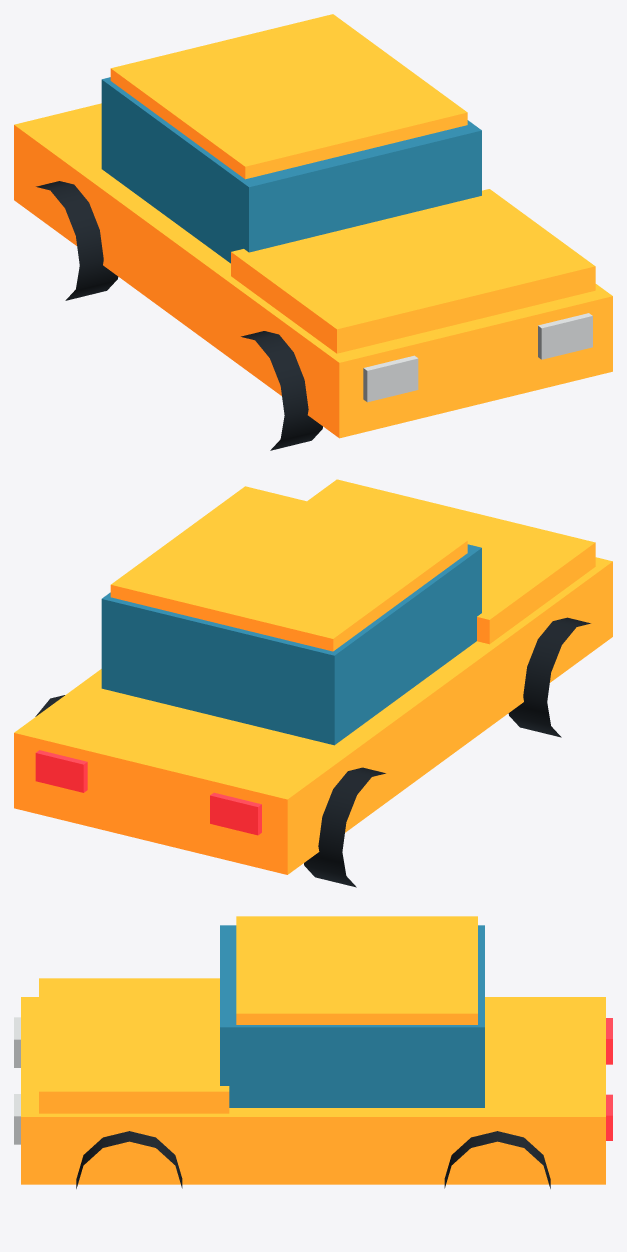
File: parked-car.glb
3 views of the same model, one above another, from view 1: azimuth 30°, elevation 25°; view 2: azimuth 150°, elevation 25°; view 3: azimuth 270°, elevation 25° (orthographic). The views are drawn at different scales.
Parts seen in each view (by area): view 1: parked_car_body, parked_car_hood, parked_car_roof, parked_car_cabin, parked_car_wheel_-1_-1.18, parked_car_wheel_-1_1.18, parked_car_headlight_-0.58, parked_car_headlight_0.58; view 2: parked_car_body, parked_car_cabin, parked_car_roof, parked_car_hood, parked_car_wheel_-1_1.18, parked_car_wheel_-1_-1.18, parked_car_taillight_0.58, parked_car_taillight_-0.58; view 3: parked_car_body, parked_car_roof, parked_car_hood, parked_car_cabin, parked_car_wheel_1_-1.18, parked_car_wheel_1_1.18.
Part boxes in pixels (x1,y1,x2,y2): parked_car_body: [14, 103, 612, 438]; parked_car_hood: [231, 189, 595, 353]; parked_car_roof: [110, 14, 467, 179]; parked_car_cabin: [101, 77, 481, 263]; parked_car_wheel_-1_-1.18: [36, 181, 118, 300]; parked_car_wheel_-1_1.18: [241, 331, 322, 450]; parked_car_headlight_-0.58: [363, 355, 418, 402]; parked_car_headlight_0.58: [538, 313, 592, 359]; parked_car_body: [14, 557, 612, 874]; parked_car_cabin: [101, 544, 481, 745]; parked_car_roof: [110, 486, 467, 651]; parked_car_hood: [307, 479, 595, 644]; parked_car_wheel_-1_1.18: [508, 617, 590, 737]; parked_car_wheel_-1_-1.18: [304, 767, 385, 887]; parked_car_taillight_0.58: [35, 750, 87, 792]; parked_car_taillight_-0.58: [210, 792, 261, 835]; parked_car_body: [21, 997, 605, 1184]; parked_car_roof: [236, 916, 477, 1024]; parked_car_hood: [39, 978, 229, 1113]; parked_car_cabin: [220, 925, 484, 1107]; parked_car_wheel_1_-1.18: [444, 1131, 550, 1188]; parked_car_wheel_1_1.18: [76, 1131, 182, 1188].
Bounding box in the file's own units: 2.14 × 1.43 × 3.84.
